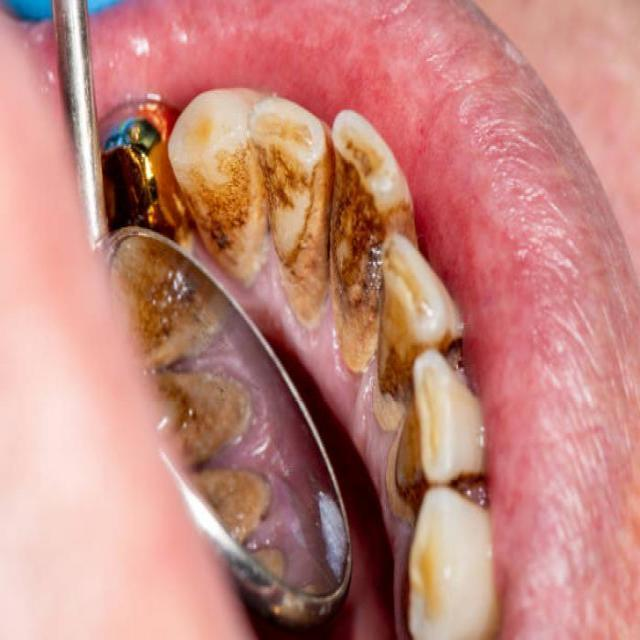CALCULUS: (202, 164, 267, 259), (108, 127, 166, 225), (329, 170, 378, 286), (384, 436, 427, 522), (383, 318, 416, 405), (279, 161, 310, 209)
